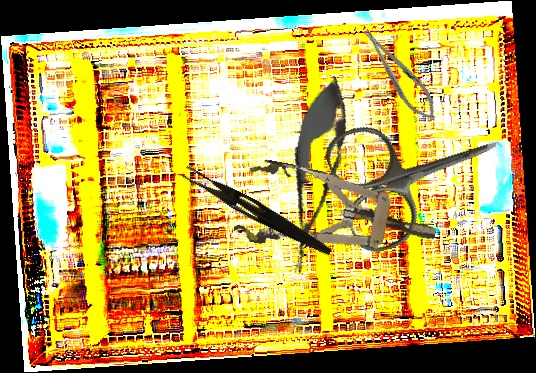Dressing Forceps: (178, 165, 337, 258)
Iris Scissors: (320, 86, 517, 259)
Micro Scissor: (272, 71, 358, 279)
Needle Holder: (355, 21, 445, 128)
Speculum: (231, 155, 444, 277)
